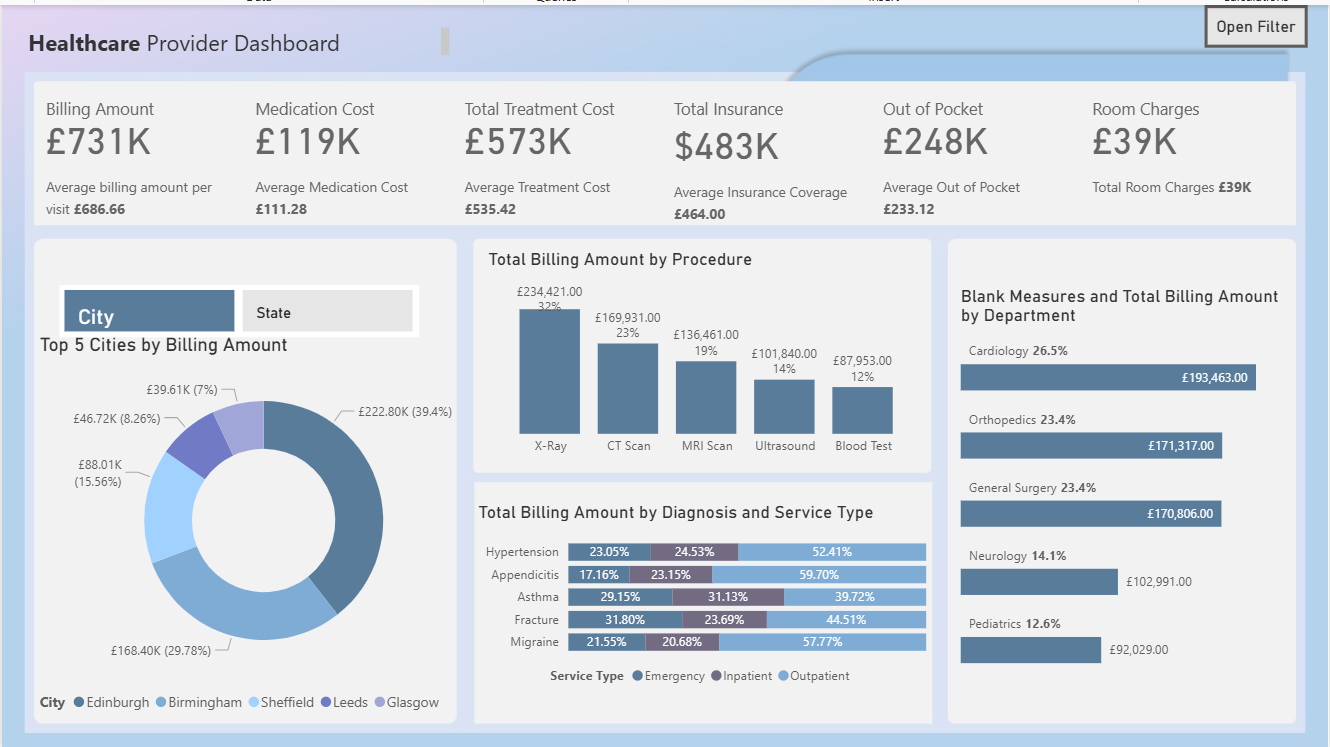

The page's visual inventory and layout, read from the dashboard file:
{"tool":"powerbi","page":{"name":"Duplicate of Page 2","canvas":[1280,720],"ordinal":2},"visuals":[{"type":"cardVisual","fields":{"Data":["DAX Calculation.Total Billing Amount","DAX Calculation.Total Medication cost","DAX Calculation.Total Treatment Cost","DAX Calculation.Total Insurance Coverage","DAX Calculation.Out of Pocket","DAX Calculation.Total Room Charges"]},"box":[31.6,76.9,1215.7,136],"z":0},{"type":"actionButton","title":"Open","box":[1160.6,0,99.7,41.3],"z":1000,"group":"g1"},{"type":"donutChart","fields":{"Category":["cities.City"],"Y":["DAX Calculation.Total Billing Amount"]},"box":[31.4,317.3,442.8,374],"z":1000},{"type":"clusteredColumnChart","fields":{"Category":["procedures.Procedure"],"Y":["DAX Calculation.Total Billing Amount"]},"box":[464.3,234.9,432.7,208.8],"z":2000},{"type":"hundredPercentStackedBarChart","fields":{"Category":["diagnoses.Diagnosis"],"Series":["visits.Service Type"],"Y":["DAX Calculation.Total Billing Amount"]},"box":[454.7,479.4,442.3,186.8],"z":3000},{"type":"clusteredBarChart","fields":{"Category":["departments.Department"],"Y":["DAX Calculation.Blank Measures","DAX Calculation.Total Billing Amount"]},"box":[920.4,270.6,326.9,372.3],"z":4000},{"type":"advancedSlicerVisual","fields":{"Values":["Parameter.Parameter"]},"box":[55.5,270.2,347.5,50.7],"z":5000},{"type":"textbox","box":[20.5,16.9,416.2,44.6],"z":7000},{"type":"group","id":"g1","title":"Slicers Btn","box":[1160.6,0,100.1,41],"z":8000}]}

Visuals, with their boxes on the page's 1280x720 design canvas (x1, y1, x2, y2). These are canvas units, not pixel positions in the 1330x747 screenshot, which may show the page scaled, cropped or inside an application window:
cardVisual - DAX Calculation.Total Billing Amount x DAX Calculation.Total Medication cost: Rect(32, 77, 1247, 213)
"Open" actionButton: Rect(1161, 0, 1260, 41)
donutChart - cities.City x DAX Calculation.Total Billing Amount: Rect(31, 317, 474, 691)
clusteredColumnChart - procedures.Procedure x DAX Calculation.Total Billing Amount: Rect(464, 235, 897, 444)
hundredPercentStackedBarChart - diagnoses.Diagnosis x visits.Service Type: Rect(455, 479, 897, 666)
clusteredBarChart - departments.Department x DAX Calculation.Blank Measures: Rect(920, 271, 1247, 643)
advancedSlicerVisual - Parameter.Parameter: Rect(56, 270, 403, 321)
textbox: Rect(20, 17, 437, 62)
"Slicers Btn" group: Rect(1161, 0, 1261, 41)
